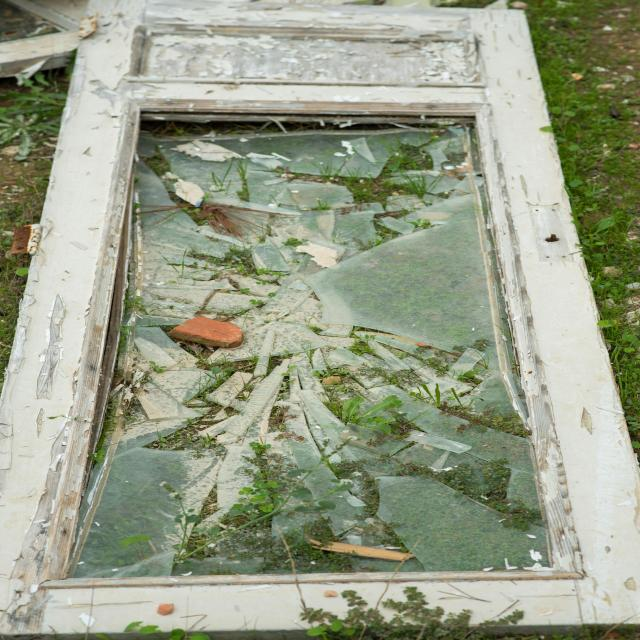electronic: (73, 106, 566, 586)
